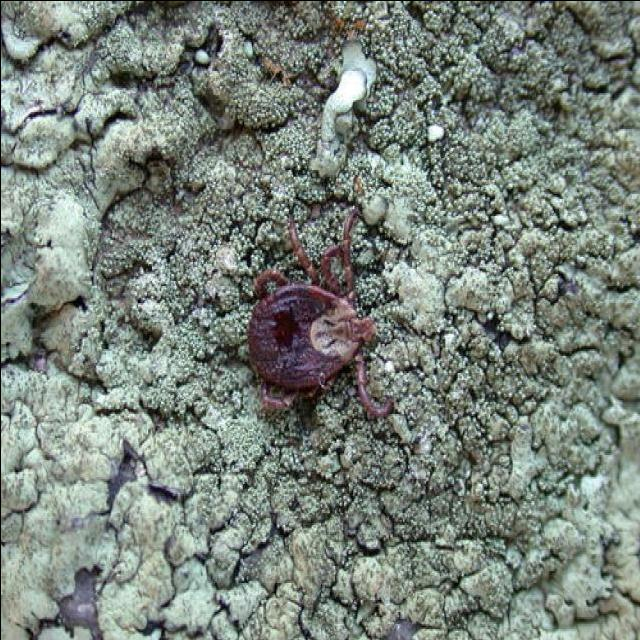Dermacentor Reticulatus-F: (247, 210, 393, 418)
